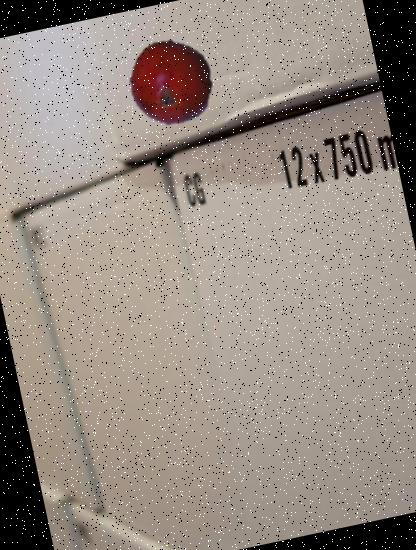Pomegranate: (121, 32, 222, 134)
